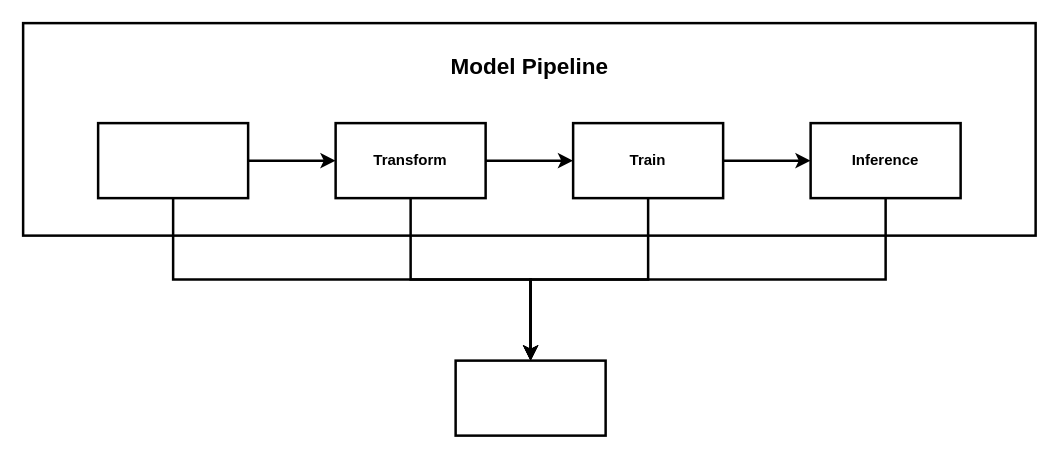
Image size: 1058x458. Some labels were removed from this diagram. Here are the shapes that lost their labels. From the top down, the centre of each, then its label:
At (172,160): "Load".
At (530,397): "Model Structure".
